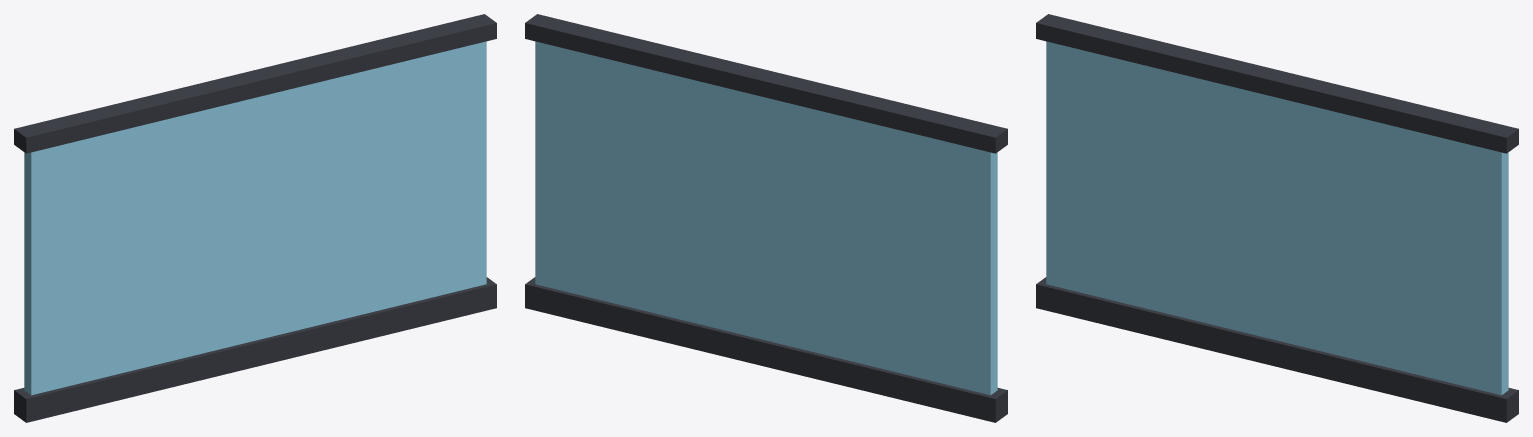
File: glass_wall.glb
3 renders of one model, left to right at view 1: azimuth 30°, elevation 25°; view 2: azimuth 150°, elevation 25°; view 3: azimuth 330°, elevation 25°, orthographic.
Visible parts, largest first — view 1: glass_wall; view 2: glass_wall; view 3: glass_wall.
Part boxes in pixels (x1,y1,x2,y2): glass_wall: (14, 14, 496, 422); glass_wall: (525, 14, 1007, 422); glass_wall: (1036, 14, 1518, 422).
Bounding box in the file's own units: 3.1 × 1.79 × 0.14.
